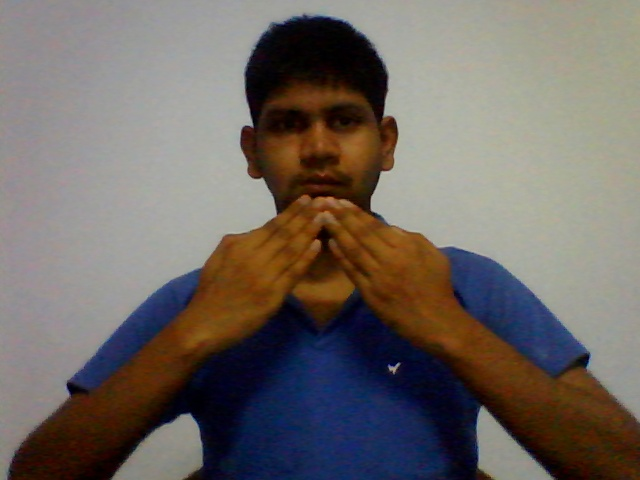ThankYou: (169, 195, 465, 359)
